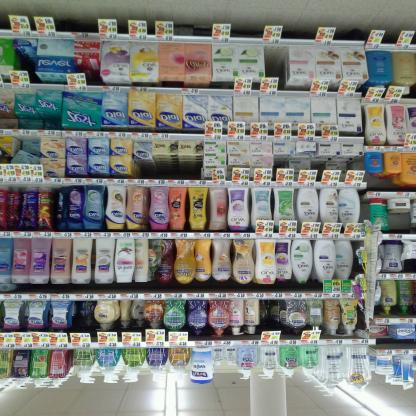empty_space: (265, 27, 287, 85)
